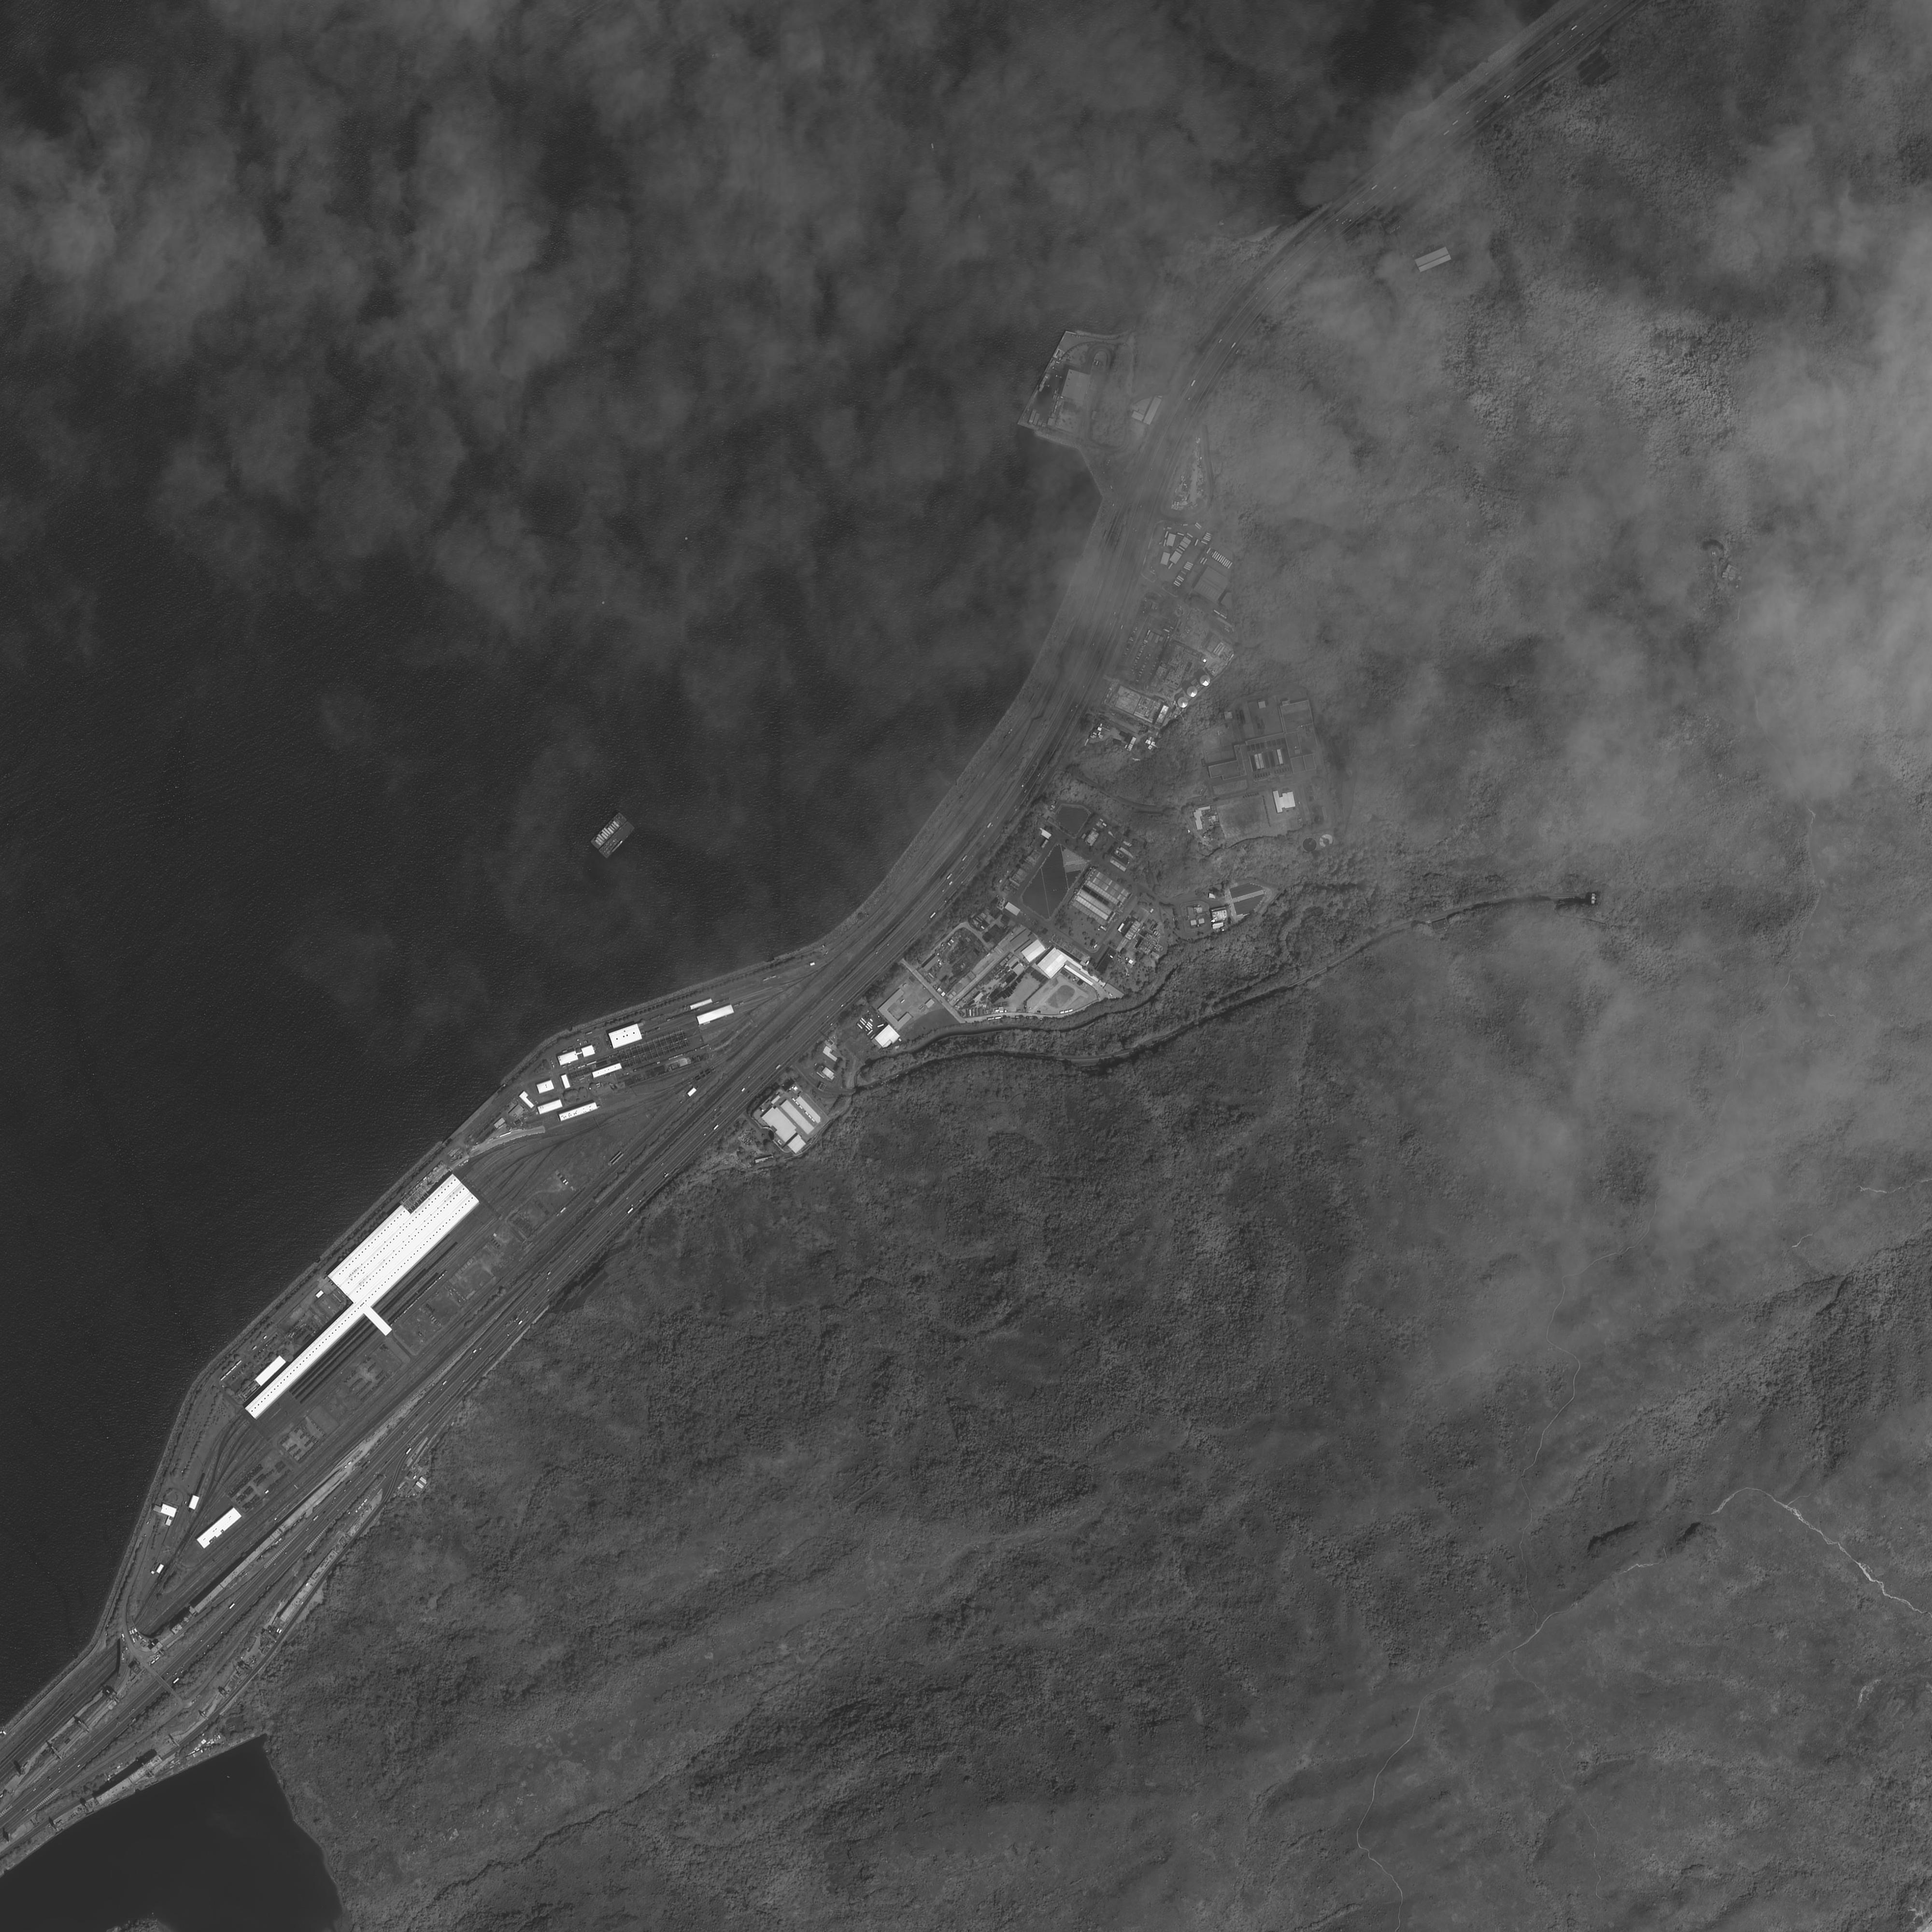ship: (591, 812, 626, 851), (600, 821, 635, 858), (931, 143, 936, 150), (978, 214, 980, 221)
